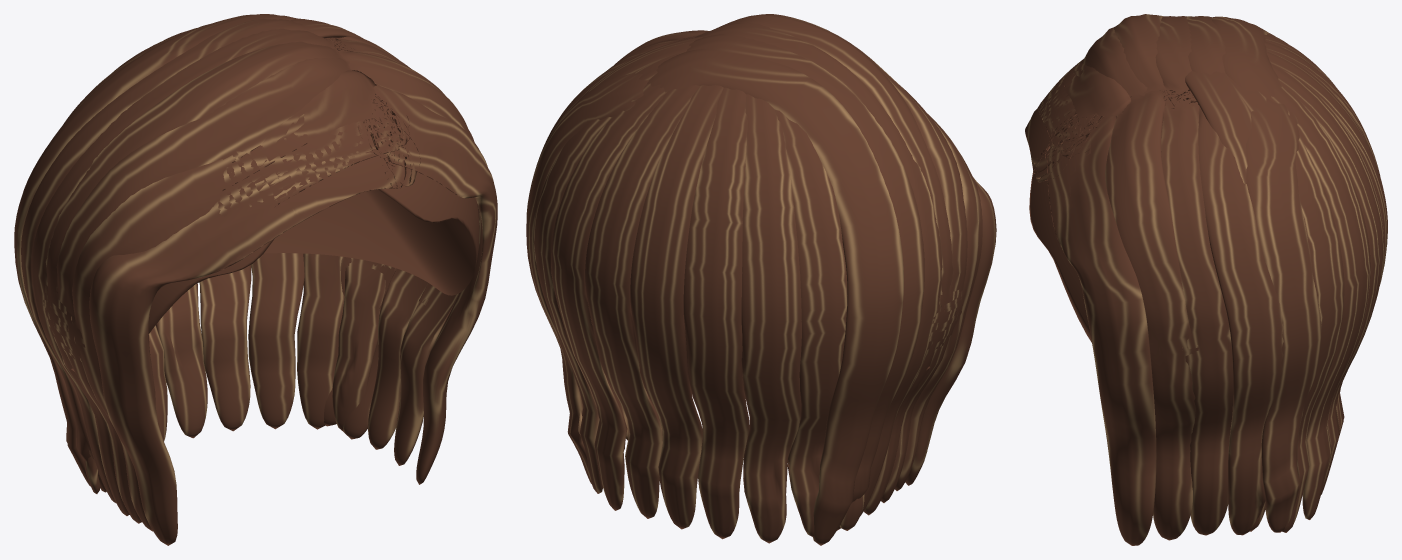
The model's file is Highlights-d62635bb6817252-hair.glb.
3 views of the same model, side by side, from view 1: azimuth 30°, elevation 25°; view 2: azimuth 150°, elevation 25°; view 3: azimuth 270°, elevation 25° (orthographic). The views are drawn at different scales.
Parts seen in each view (by area): view 1: 226 hair / Hair / sculpted 0.002, 226 hair / Hair / sculpted 1.004, 226 hair / Hair / sculpted 2.002, 226 hair / Hair / sculpted 1.003; view 2: 226 hair / Hair / sculpted 0.002, 226 hair / Hair / sculpted 2.002, 226 hair / Hair / sculpted 1.004; view 3: 226 hair / Hair / sculpted 1.004, 226 hair / Hair / sculpted 2.002, 226 hair / Hair / sculpted 0.002, 226 hair / Hair / sculpted 1.003.
Boxes of the visible parts, bbox=[...] form: 226 hair / Hair / sculpted 0.002: bbox=[14, 14, 428, 545]; 226 hair / Hair / sculpted 1.004: bbox=[31, 19, 497, 531]; 226 hair / Hair / sculpted 2.002: bbox=[21, 18, 479, 523]; 226 hair / Hair / sculpted 1.003: bbox=[71, 172, 479, 371]; 226 hair / Hair / sculpted 0.002: bbox=[551, 14, 996, 545]; 226 hair / Hair / sculpted 2.002: bbox=[526, 14, 967, 536]; 226 hair / Hair / sculpted 1.004: bbox=[526, 22, 982, 543]; 226 hair / Hair / sculpted 1.004: bbox=[1038, 16, 1384, 545]; 226 hair / Hair / sculpted 2.002: bbox=[1062, 16, 1387, 540]; 226 hair / Hair / sculpted 0.002: bbox=[1025, 14, 1380, 535]; 226 hair / Hair / sculpted 1.003: bbox=[1029, 171, 1091, 342].
Size of the model in its own units: 0.9998 by 1.08 by 0.7947.
4 materials, 4 textured.
